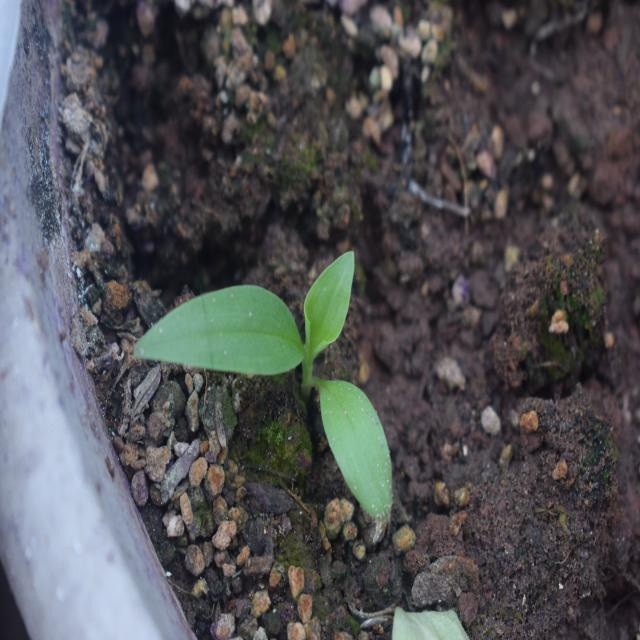Common Dayflower: (138, 240, 415, 525)
